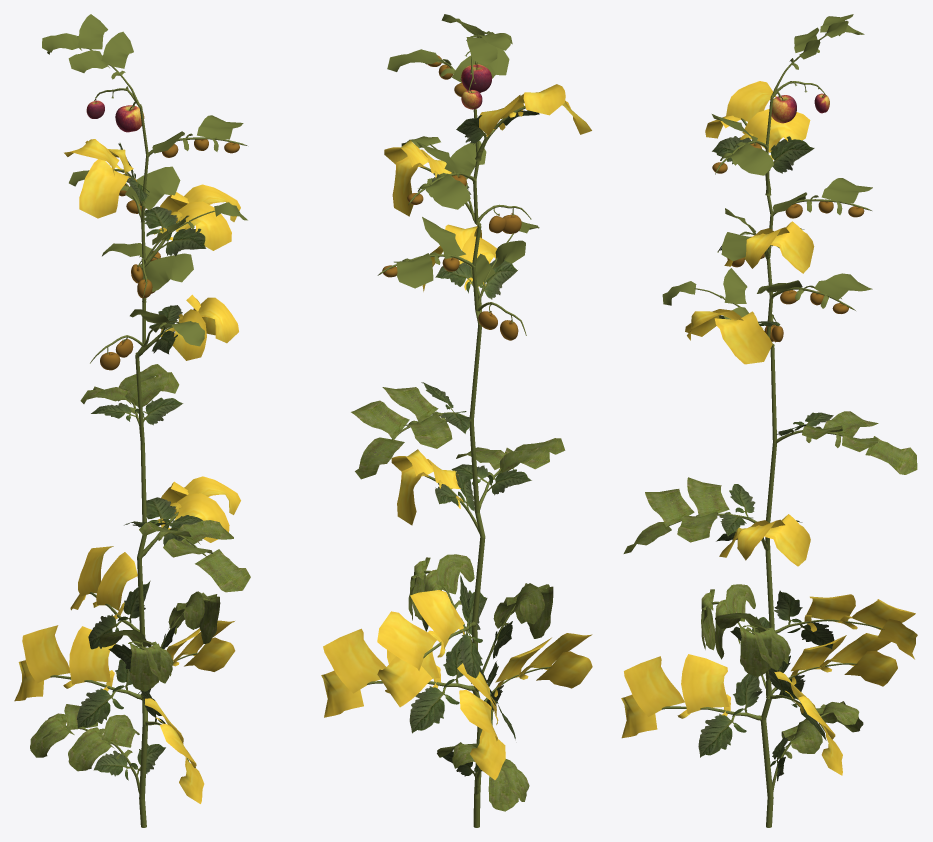
Rendered from apple_tree.dae.
3 renders of one model, left to right at view 1: azimuth 30°, elevation 25°; view 2: azimuth 150°, elevation 25°; view 3: azimuth 270°, elevation 25°, orthographic. The views are drawn at different scales.
Visible parts, largest first — view 1: Blossom2, Branch1, Leaf1, Blossom1, Apple2; view 2: Blossom2, Branch1, Leaf1, Blossom1, Apple2; view 3: Blossom2, Branch1, Leaf1, Blossom1, Apple2.
Part boxes in pixels (x1,y1,x2,y2): Blossom2: (14,139,240,803); Branch1: (42,14,250,827); Leaf1: (77,143,206,780); Blossom1: (30,591,220,771); Apple2: (115,105,144,132); Blossom2: (321,84,592,779); Branch1: (351,14,565,827); Leaf1: (409,110,539,777); Blossom1: (408,554,553,811); Apple2: (461,63,491,92); Blossom2: (621,81,917,775); Branch1: (623,14,917,827); Leaf1: (698,136,834,781); Blossom1: (701,584,863,758); Apple2: (771,95,796,123).
Bounding box in the file's own units: 0.7033 × 0.878 × 2.6.
7 materials, 6 textured.
